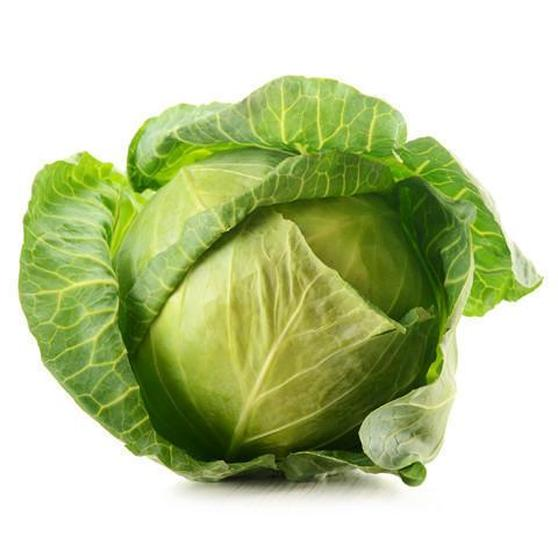cabbage: (71, 135, 472, 472)
